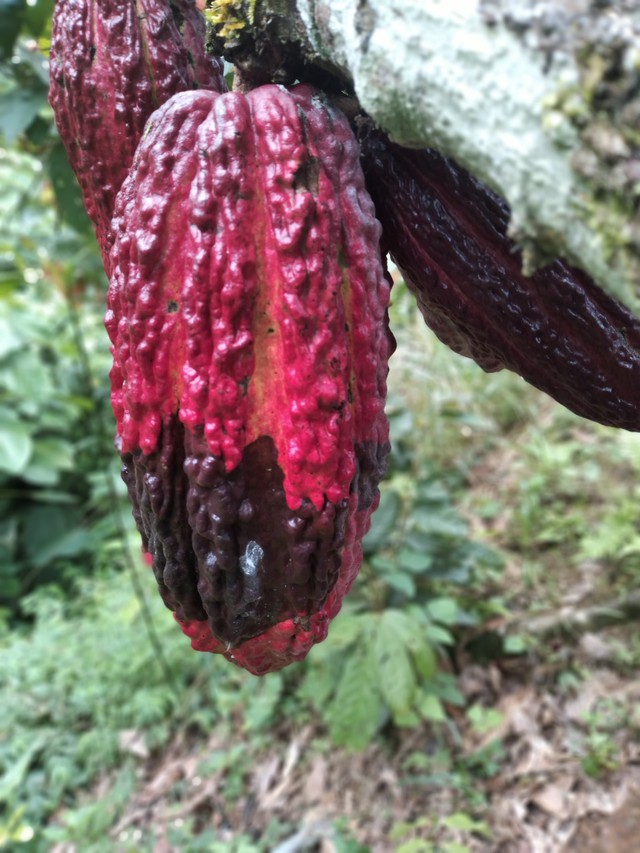phytophthora palmivora: (100, 78, 399, 681)
